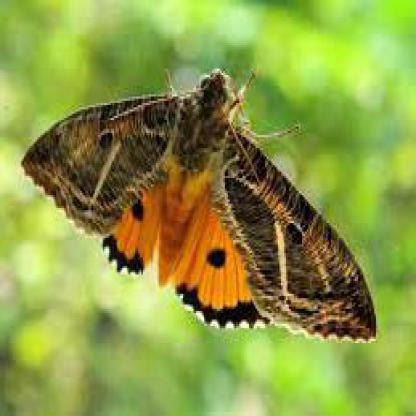fruit sucking moth: (21, 68, 376, 342)
